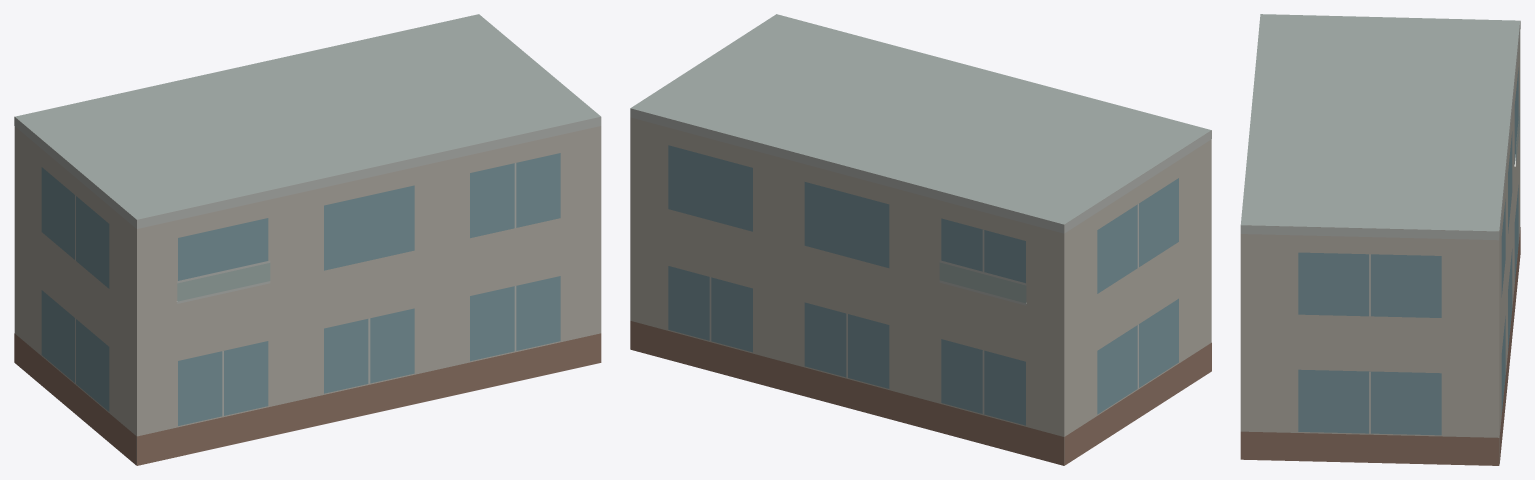
The model's file is survey-upis-32599736.glb.
3 views of the same model, side by side, from view 1: azimuth 30°, elevation 25°; view 2: azimuth 150°, elevation 25°; view 3: azimuth 270°, elevation 25° (orthographic). The views are drawn at different scales.
Visible parts, largest first — view 1: survey-upis-32599736.tmp; view 2: survey-upis-32599736.tmp; view 3: survey-upis-32599736.tmp.
Boxes of the visible parts, left/top/right/bottom form: survey-upis-32599736.tmp: left=14, top=14, right=601, bottom=465; survey-upis-32599736.tmp: left=630, top=14, right=1211, bottom=465; survey-upis-32599736.tmp: left=1240, top=14, right=1520, bottom=465.
Size of the model in its own units: 12.94 by 6.5 by 7.04.
